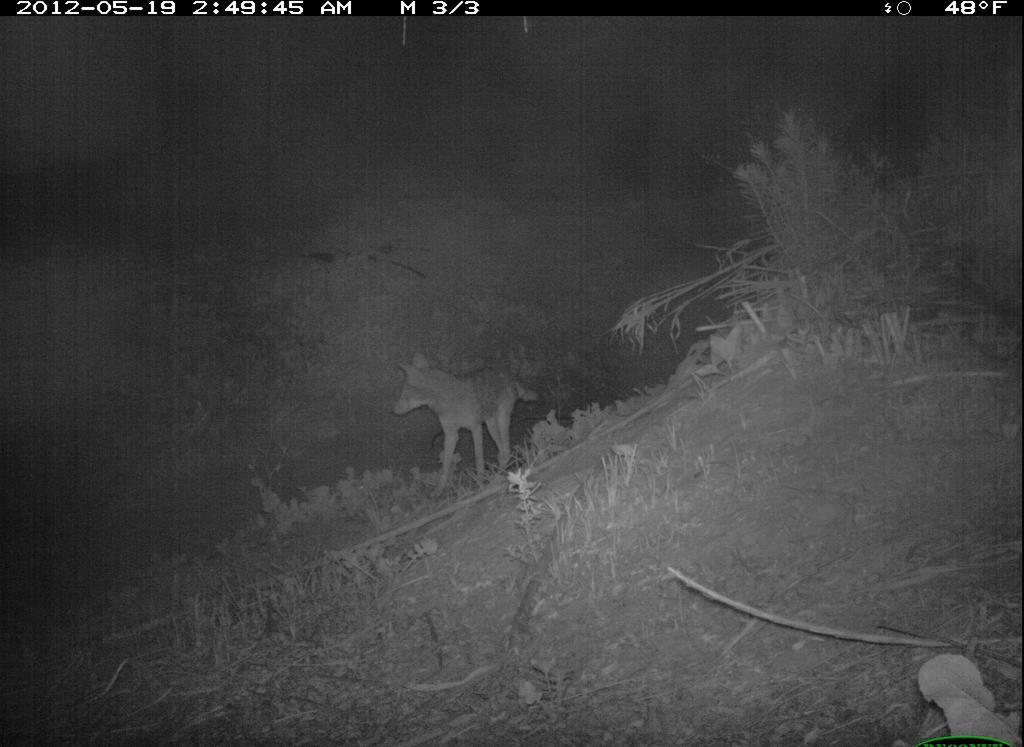coyote: (378, 354, 560, 520)
